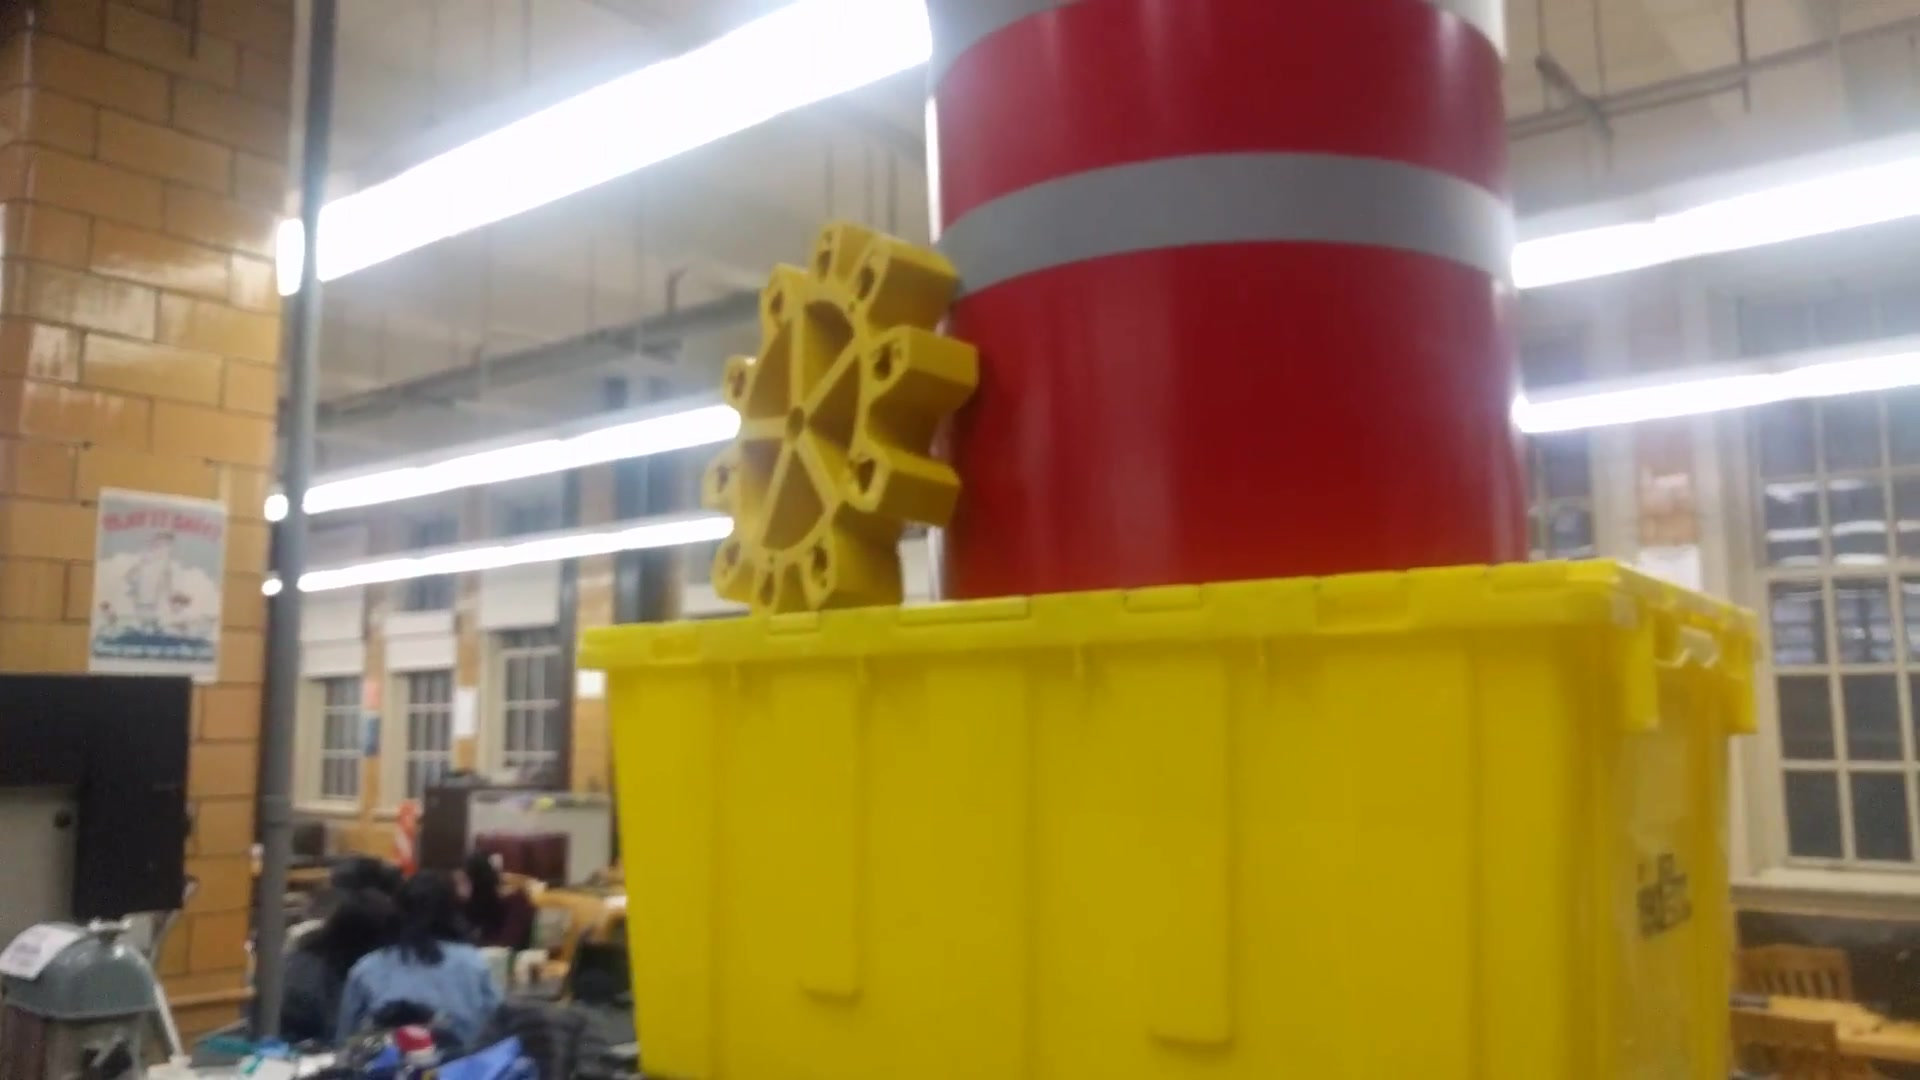gear: (696, 204, 984, 622)
